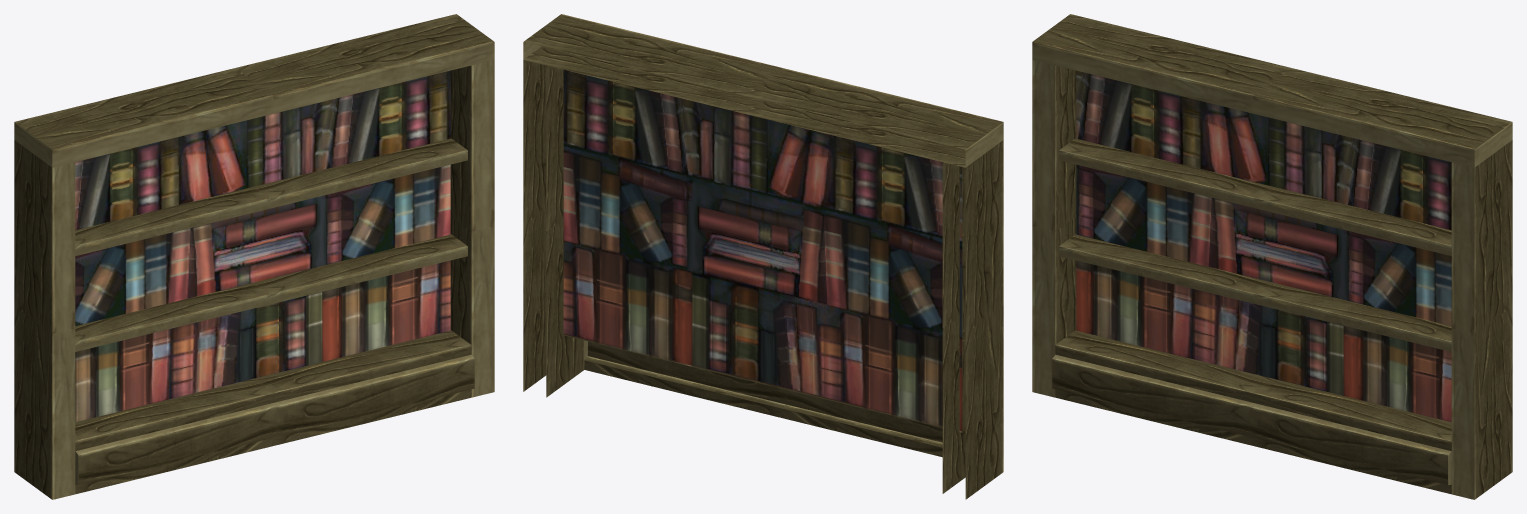
The model's file is F_shujia001.fbx.
3 renders of one model, left to right at view 1: azimuth 30°, elevation 25°; view 2: azimuth 150°, elevation 25°; view 3: azimuth 330°, elevation 25°, orthographic.
Parts seen in each view (by area): view 1: F_shujia001; view 2: F_shujia001; view 3: F_shujia001.
Part boxes in pixels (<box>): F_shujia001: <box>14,14,494,499</box>; F_shujia001: <box>523,14,1003,499</box>; F_shujia001: <box>1032,14,1512,499</box>.
Bounding box in the file's own units: 269 × 204 × 43.54.
